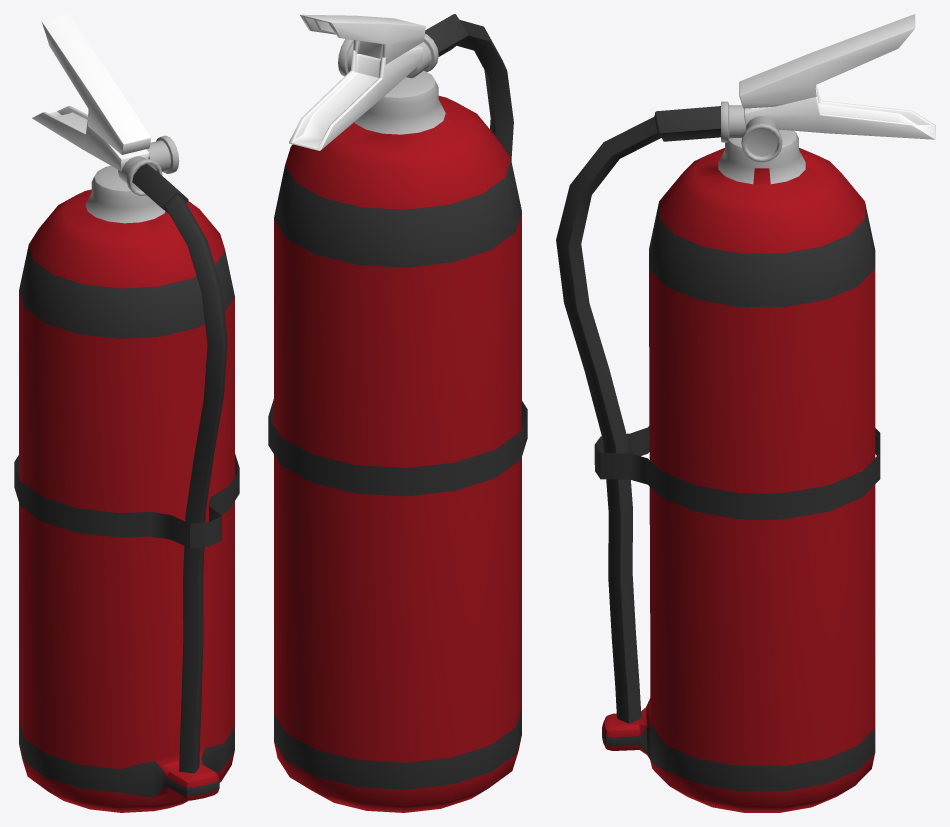
File: Prop_FireExtinguisher.fbx
3 renders of one model, left to right at view 1: azimuth 30°, elevation 25°; view 2: azimuth 150°, elevation 25°; view 3: azimuth 270°, elevation 25°, orthographic. The views are drawn at different scales.
Parts seen in each view (by area): view 1: Prop_FireExtinguisher; view 2: Prop_FireExtinguisher; view 3: Prop_FireExtinguisher.
Part boxes in pixels (<box>): Prop_FireExtinguisher: <box>14,14,239,812</box>; Prop_FireExtinguisher: <box>268,14,527,812</box>; Prop_FireExtinguisher: <box>556,14,935,812</box>.
Bounding box in the file's own units: 14.26 × 49.73 × 22.69.
